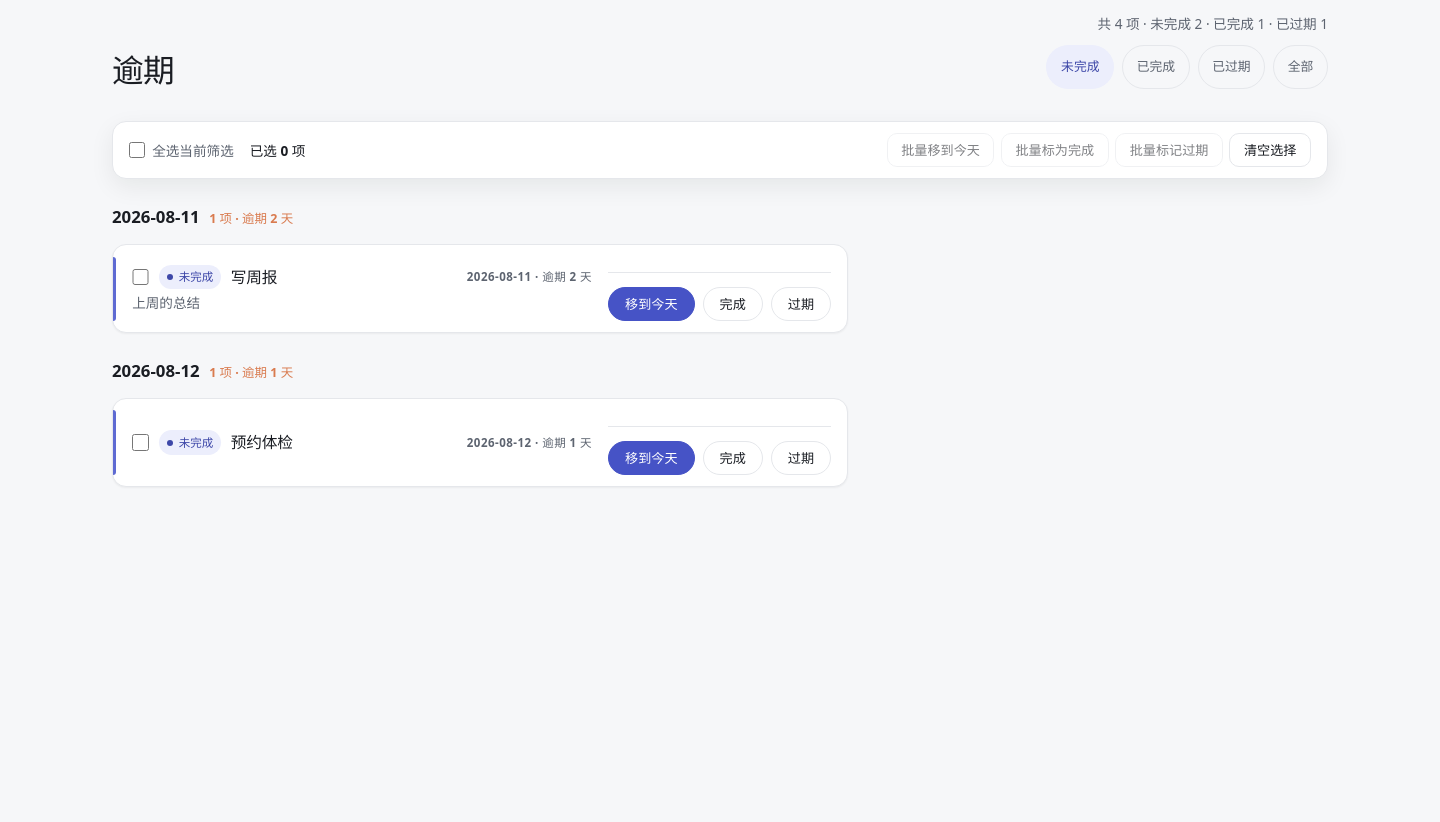
it: overdue page › moves every selected task to today in one bulk action
The image size is (1440, 822).
Expected: the heading "写周报" is shown, [231,264,277,290]
Note: 默认「未完成」视图有两条；逐条勾选后批量移回今天。
Click the checkbox named "选择任务 写周报" at {"x": 141, "y": 277}, box [132,268,149,285]
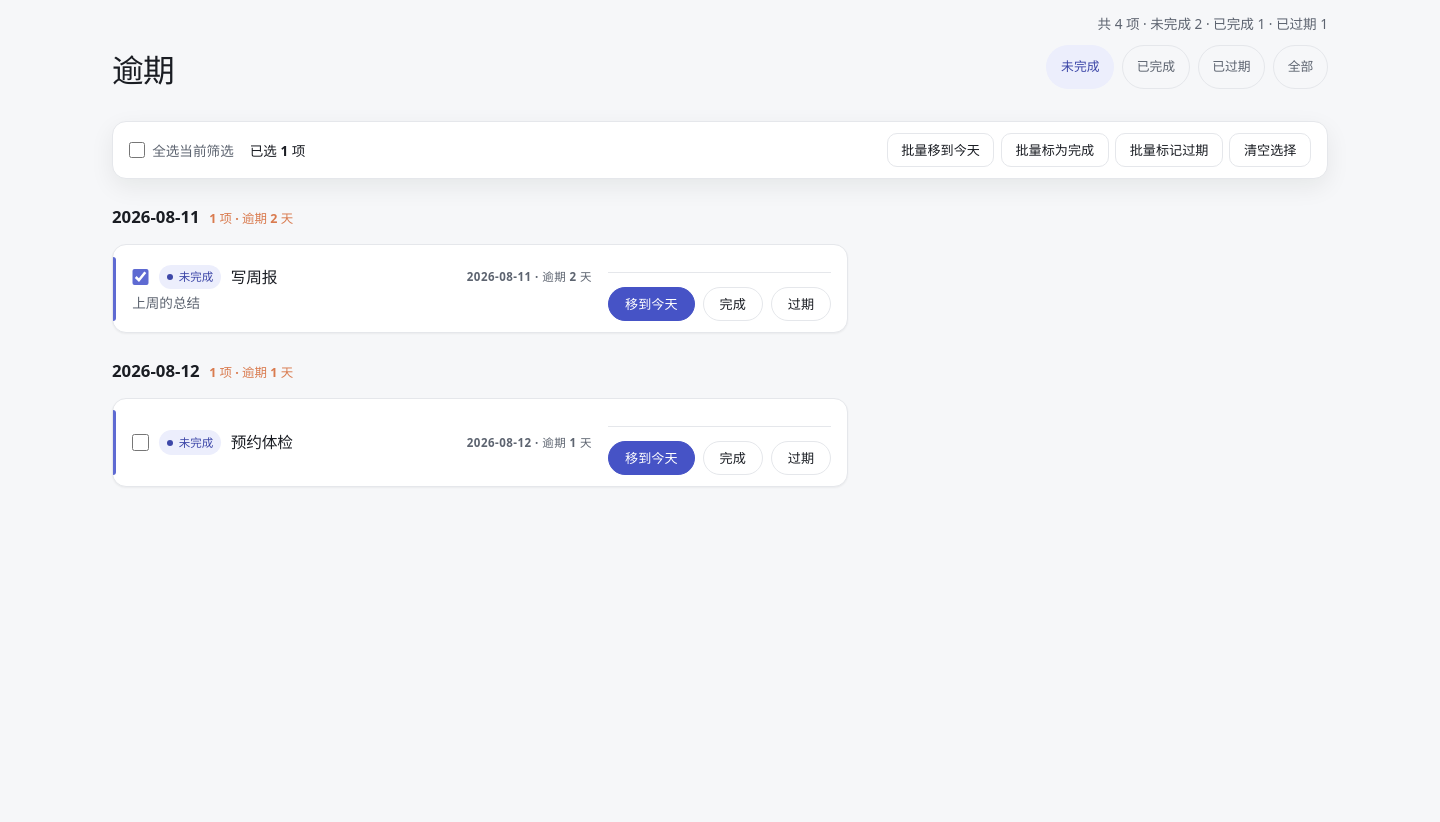
Click the checkbox named "选择任务 预约体检" at {"x": 141, "y": 443}, box [132,434,149,451]
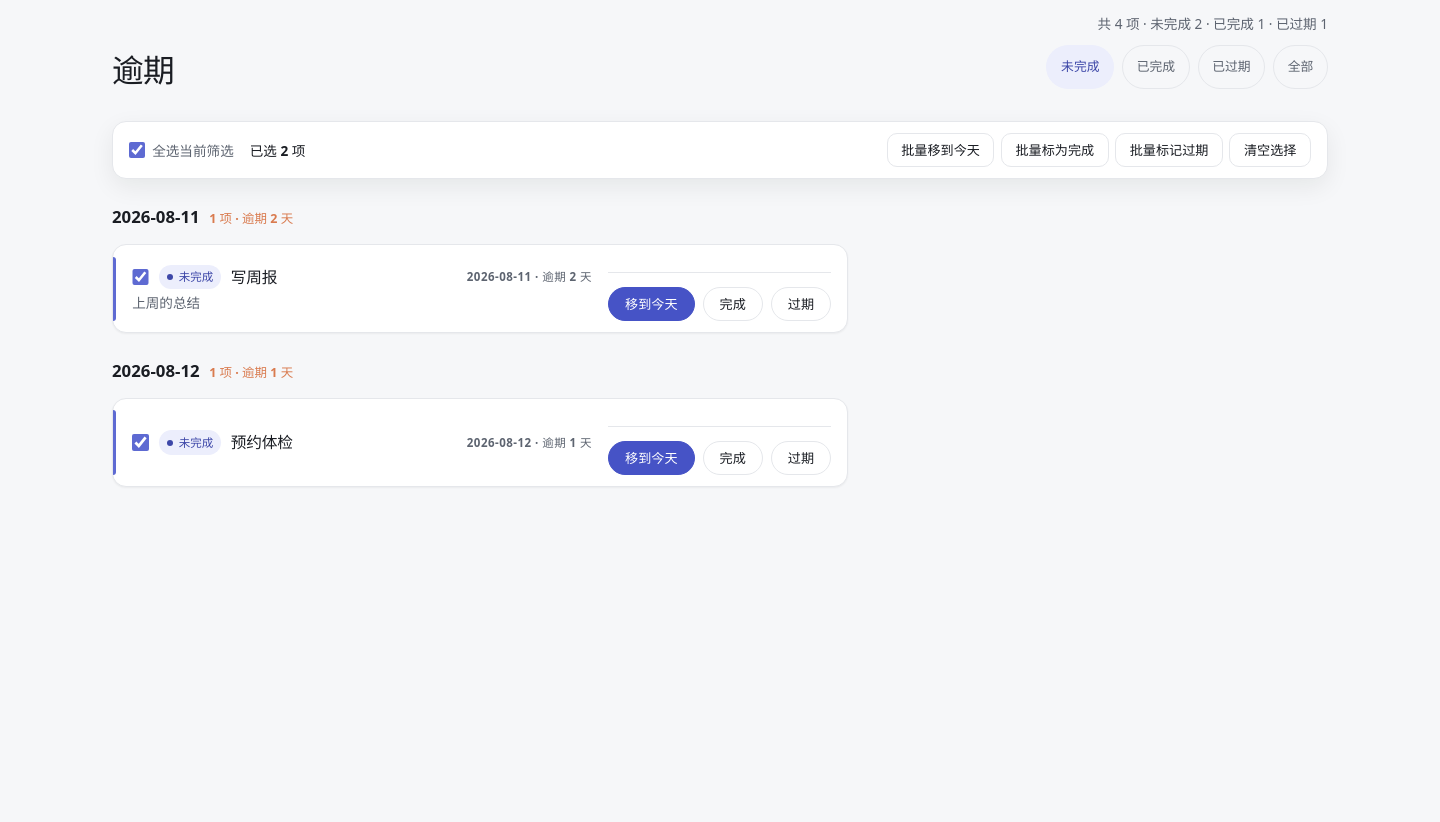
Expected: the text "已选 2 项" is shown, [250,138,306,162]
Click the button "批量移到今天" at {"x": 941, "y": 150}, box [887,133,994,167]
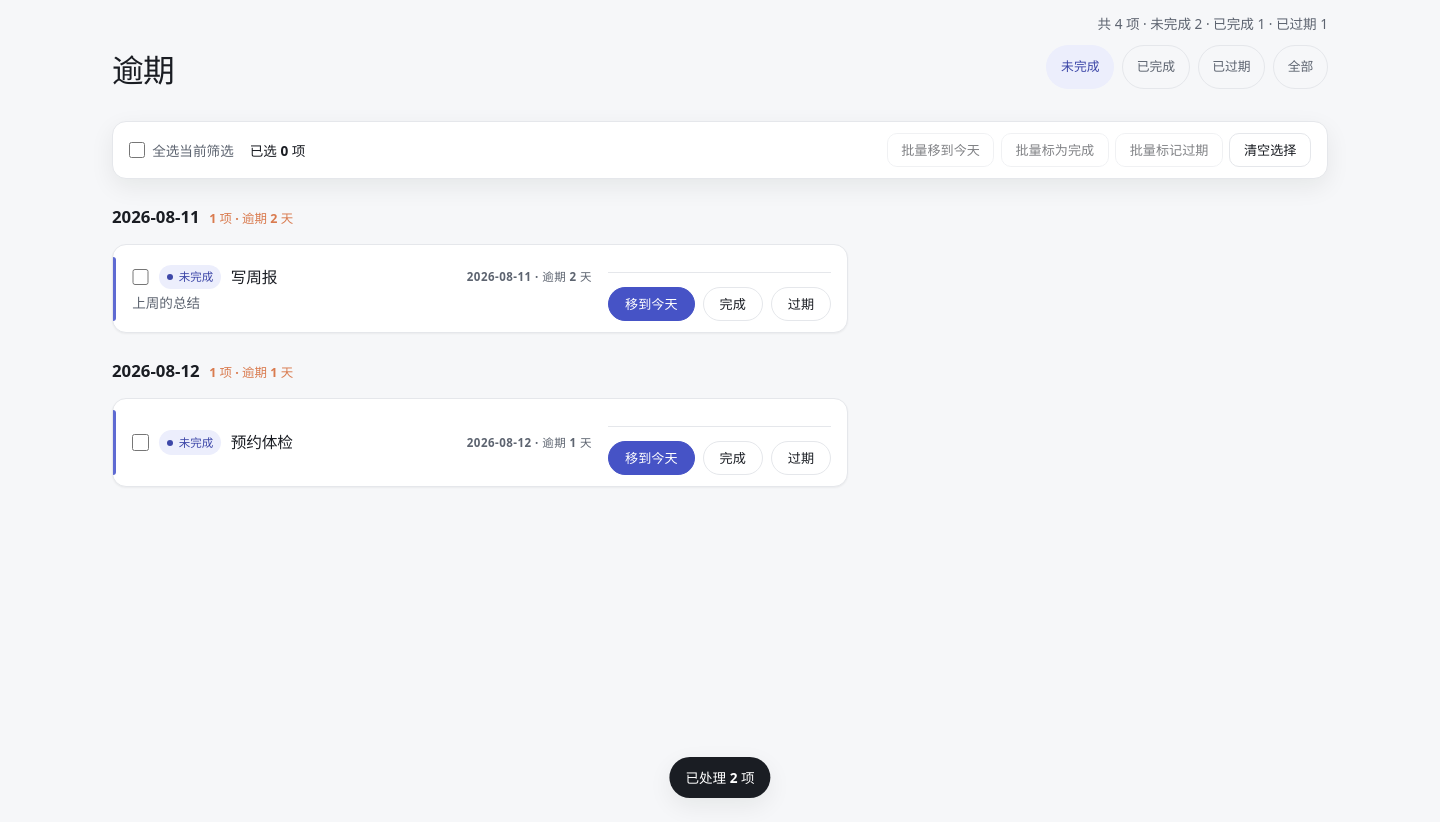
Expected: the text "已处理 2 项" is shown, [669,757,771,798]
